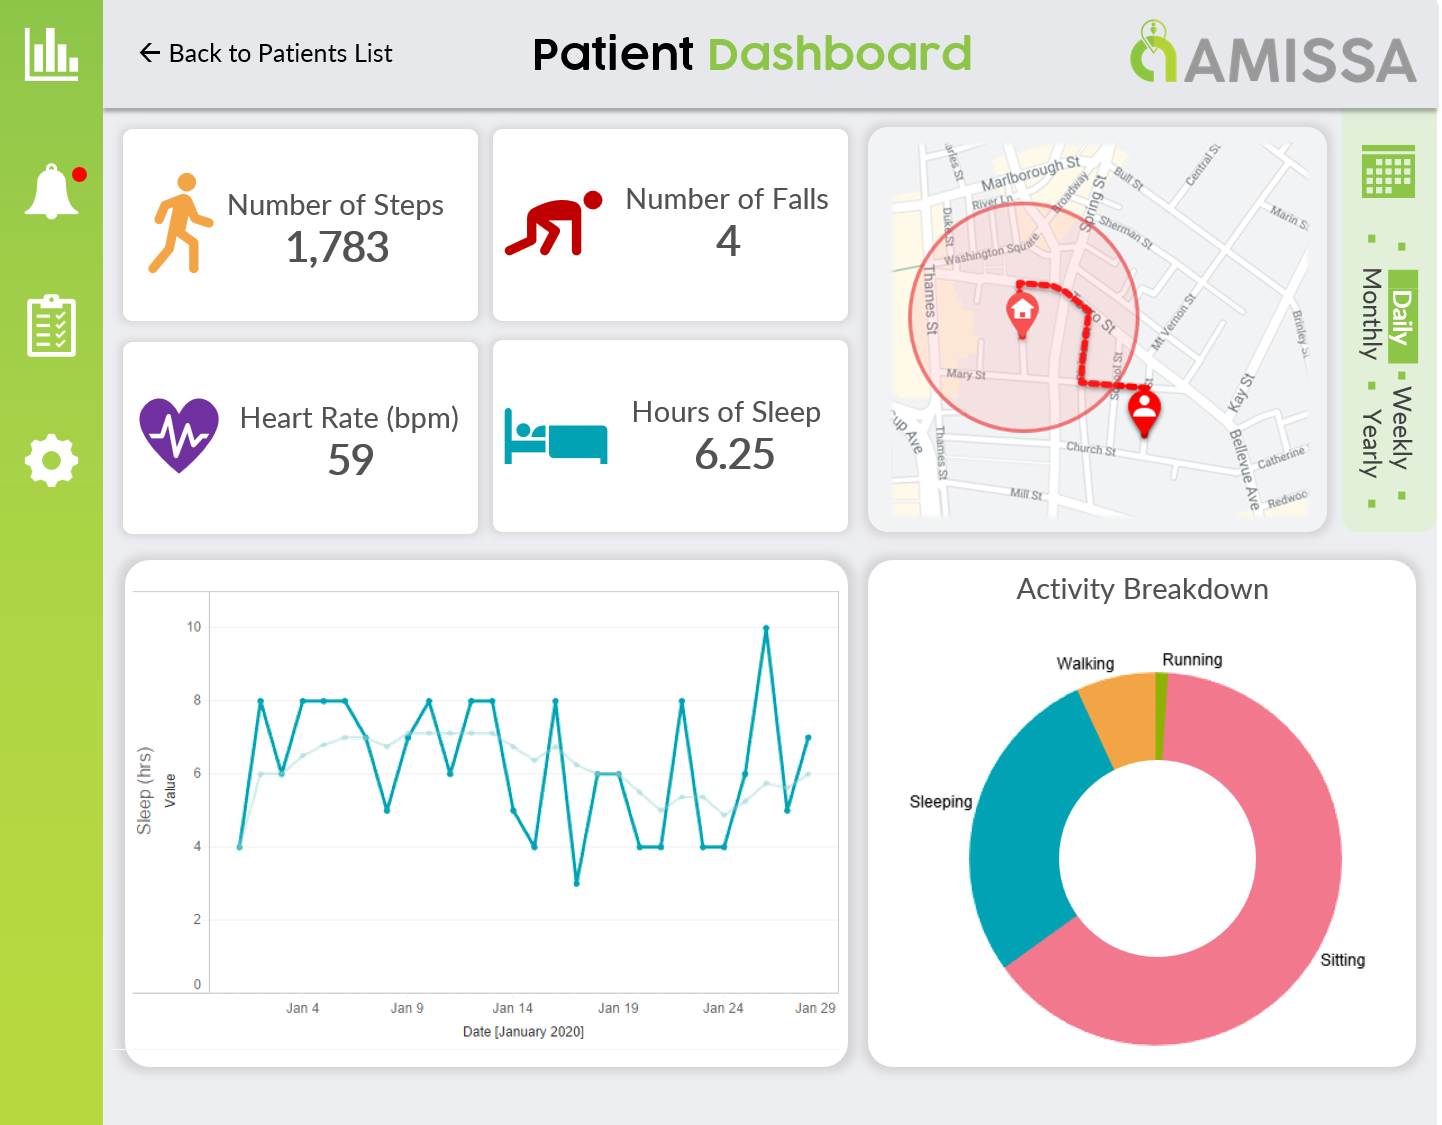

The dashboard page shown, as its layout file describes it:
{"tool":"tableau","page":{"name":"Dashboard - 2","canvas":[1000,1000],"units":"permille","ordinal":1},"visuals":[{"type":"image","param":"C:/Users/Colby/Documents/GitHub/SinuoDashboard/Tableau/Amissa, white.png","box":[4.7,8.8,247.2,66.6]},{"type":"blank","box":[251.8,8.8,743.5,66.6]},{"type":"worksheet","title":"Steps","mark":"Automatic","box":[4.7,75.4,247.3,173.5]},{"type":"worksheet","title":"Sleep","mark":"Automatic","box":[252,75.4,248.3,173.5]},{"type":"worksheet","title":"Map","mark":"Heatmap","rows":["Latitude"],"cols":["Longitude"],"box":[500.2,75.4,495.1,347.2]},{"type":"worksheet","title":"HR","mark":"Automatic","box":[4.7,248.9,247.3,173.7]},{"type":"worksheet","title":"Falls","mark":"Automatic","box":[252,248.9,248.3,173.7]},{"type":"filter","title":"Activity Breakdown","param":"[federated.04r69f40iwrlbb18dydk00a5edez].[tdy:Date:qk]","box":[4.7,422.6,368.4,49.1]},{"type":"filter","title":"Metrics Chart","param":"[federated.04r69f40iwrlbb18dydk00a5edez].[none:Metric:nk]","box":[373.1,422.6,293.4,49.1]},{"type":"worksheet","title":"Activity Breakdown","mark":"Pie","box":[666.5,422.6,328.8,568.6]},{"type":"worksheet","title":"Metrics Chart","mark":"Line","rows":["Metric","Value"],"cols":["Date"],"box":[4.7,471.6,661.9,519.5]}]}

Visuals, with their boxes on the dashboard's canvas, which has no fixed pixel size, in thousandths of its width and height (x1, y1, x2, y2). These are canvas units, not pixel positions in the 1442x1125 screenshot, which may show the page scaled, cropped or inside an application window:
image: box=[5, 9, 252, 75]
blank: box=[252, 9, 995, 75]
"Steps" worksheet: box=[5, 75, 252, 249]
"Sleep" worksheet: box=[252, 75, 500, 249]
"Map" worksheet (Heatmap marks): box=[500, 75, 995, 423]
"HR" worksheet: box=[5, 249, 252, 423]
"Falls" worksheet: box=[252, 249, 500, 423]
"Activity Breakdown" filter: box=[5, 423, 373, 472]
"Metrics Chart" filter: box=[373, 423, 666, 472]
"Activity Breakdown" worksheet (Pie marks): box=[666, 423, 995, 991]
"Metrics Chart" worksheet (Line marks): box=[5, 472, 667, 991]
